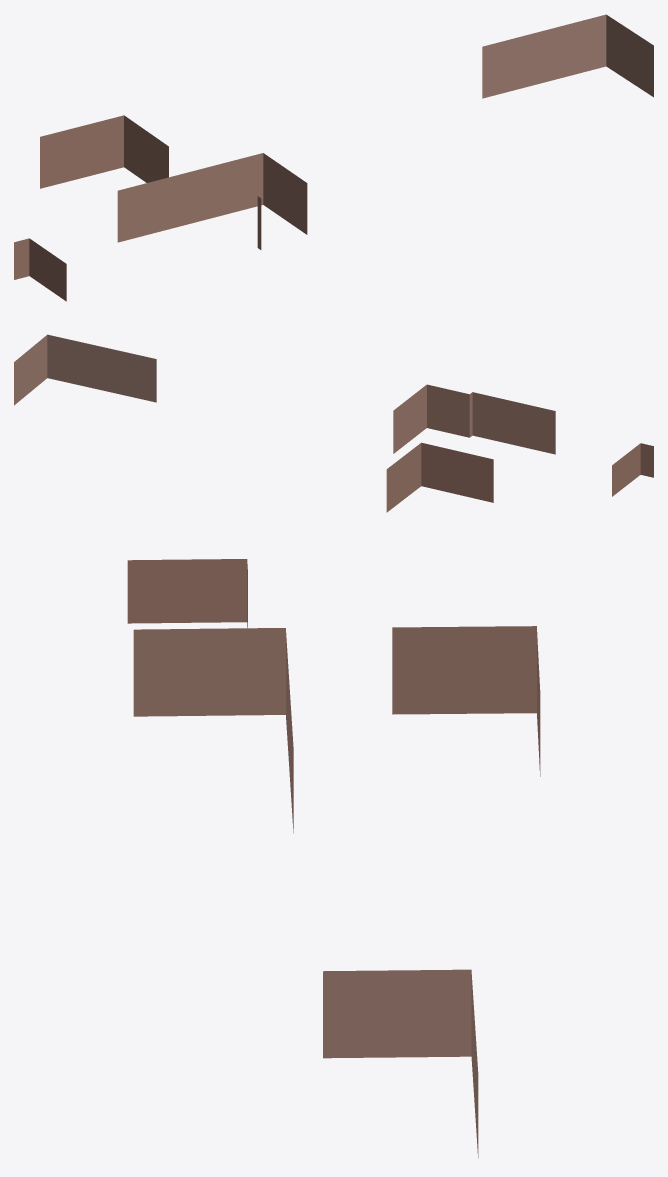
File: c_1632_17833_buildings_residential.glb
The picture shows the model from 3 angles, top to bottom: view 1: azimuth 30°, elevation 25°; view 2: azimuth 150°, elevation 25°; view 3: azimuth 270°, elevation 25°; orthographic projection. The views are drawn at different scales.
Visible parts, largest first — view 1: geometry_0; view 2: geometry_0; view 3: geometry_0.
Boxes of the visible parts, left/top/right/bottom form: geometry_0: left=14, top=14, right=653, bottom=301; geometry_0: left=14, top=334, right=653, bottom=512; geometry_0: left=127, top=559, right=540, bottom=1158.
Bounding box in the file's own units: 147 × 11.46 × 47.28.
